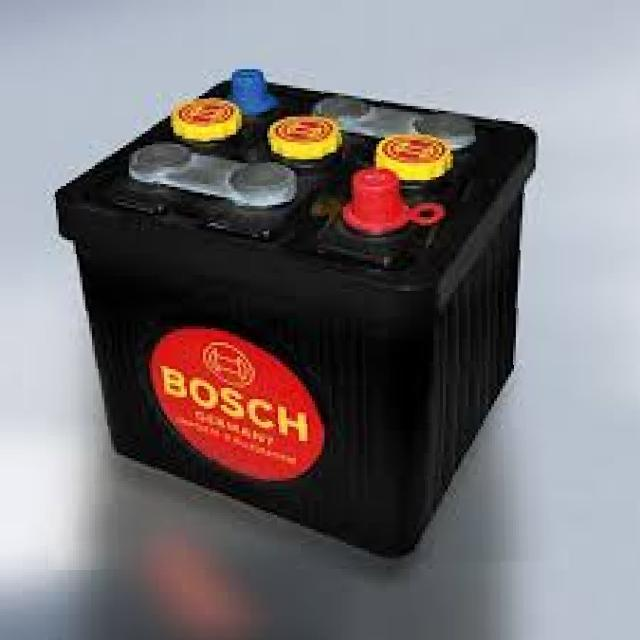Battery: (33, 48, 584, 578)
